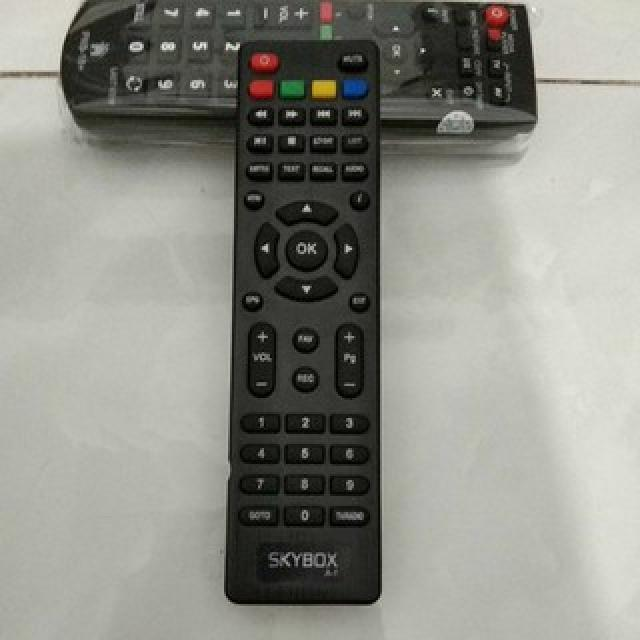remote: (220, 36, 382, 605), (53, 2, 536, 142)
